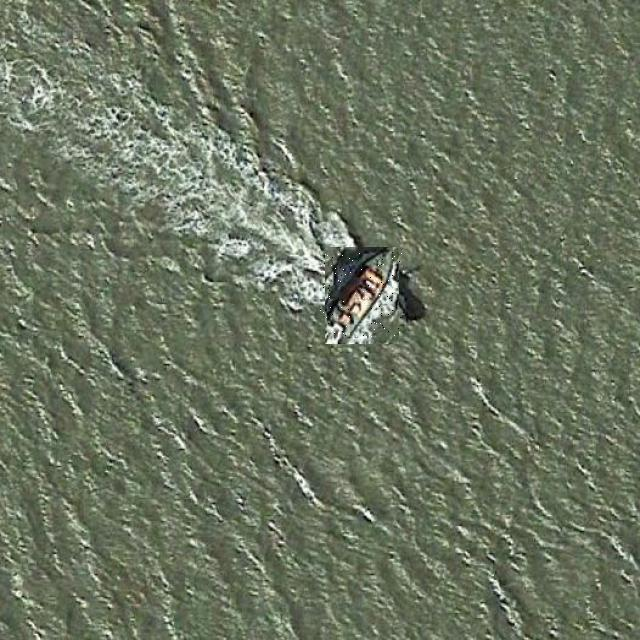boat: (319, 252, 405, 338)
